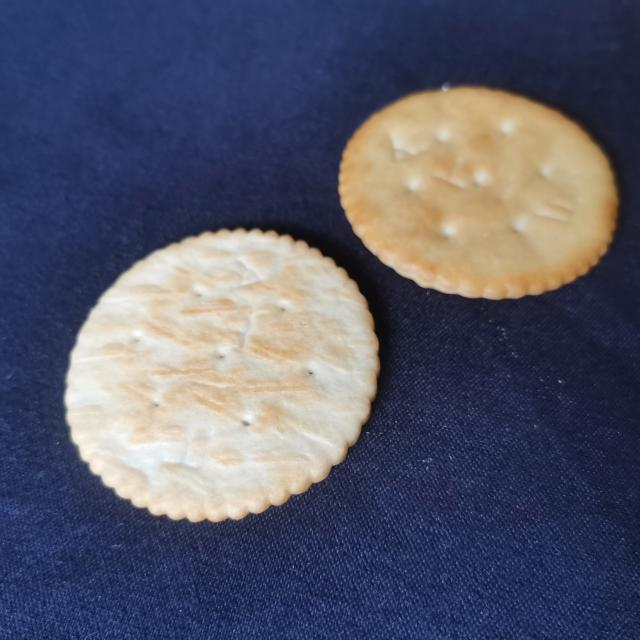Intact: (51, 219, 387, 532), (333, 73, 628, 311)
